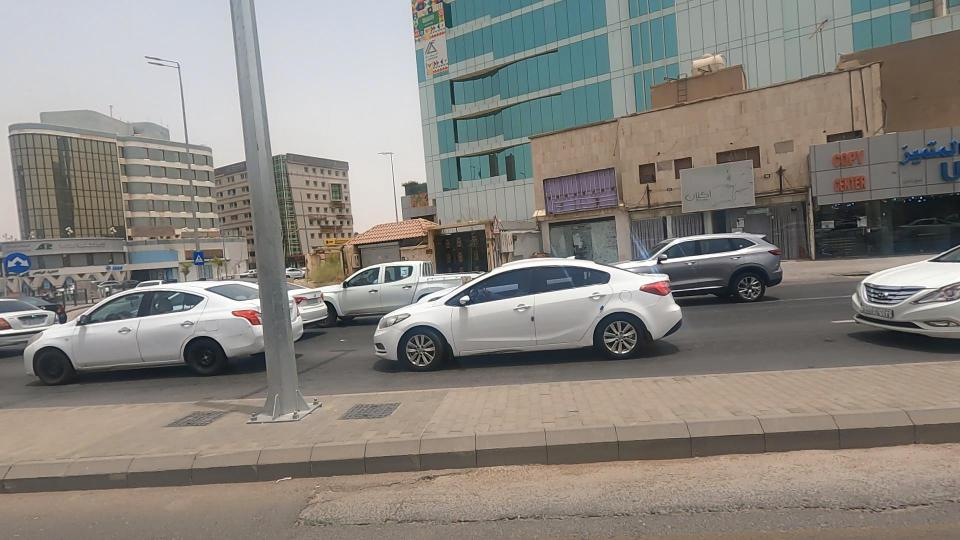BAD_BILLBOARD: (483, 139, 667, 241), (625, 143, 794, 227)
